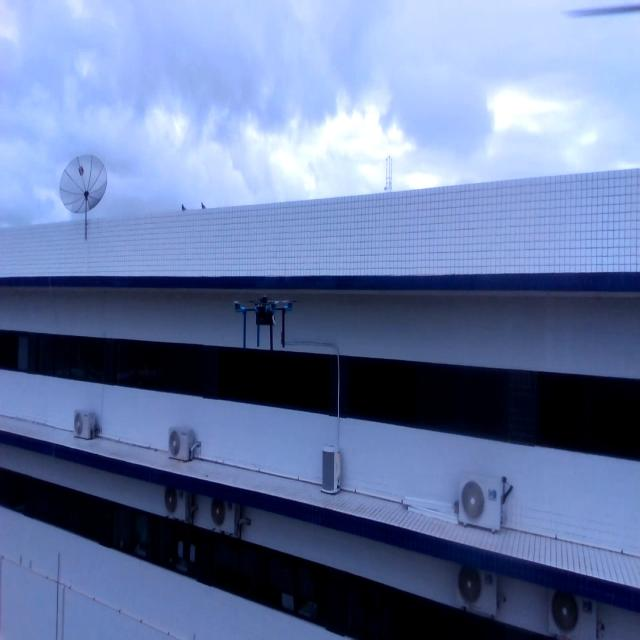-uav-: (228, 277, 300, 360)
